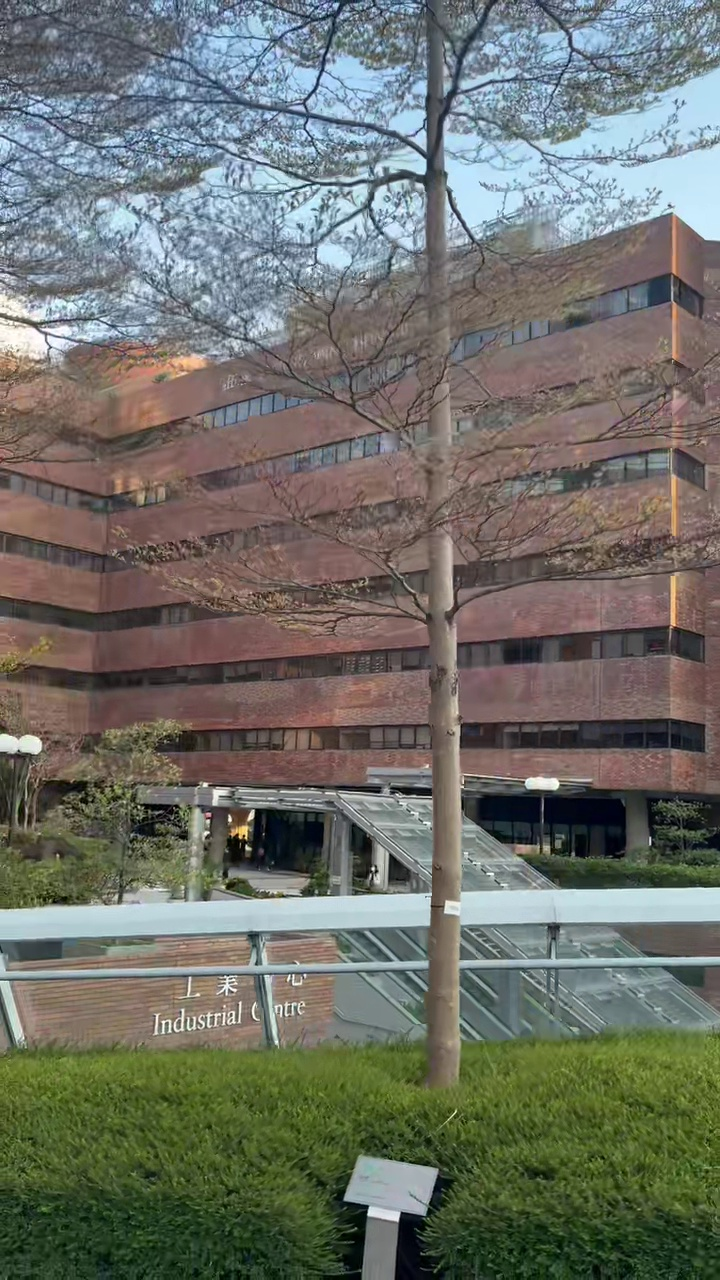Terminalia mantaly: (0, 0, 719, 1084)
